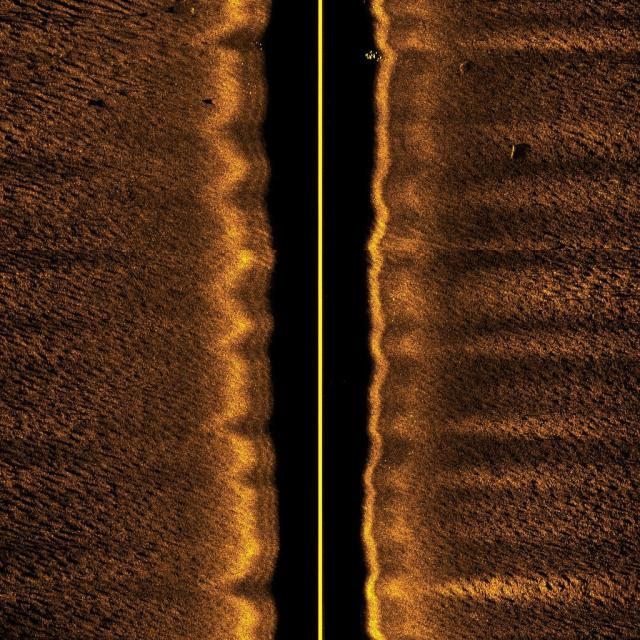mine: (506, 140, 527, 162)
